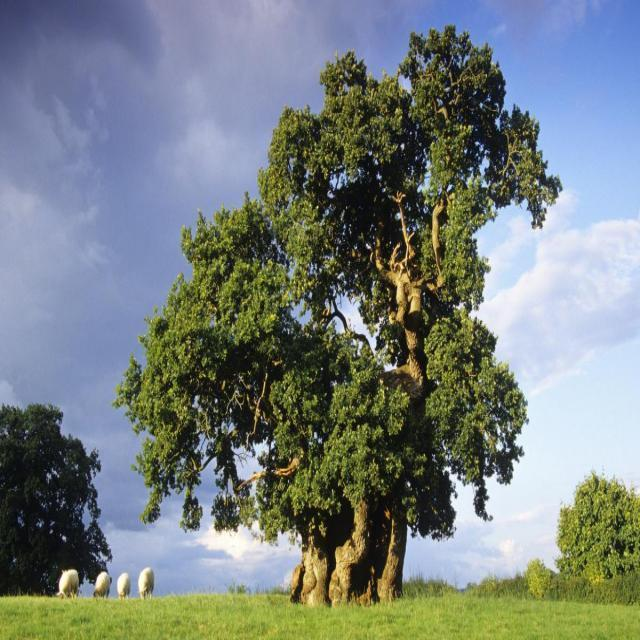tree: (114, 22, 562, 604), (0, 386, 110, 594), (547, 459, 640, 601)
